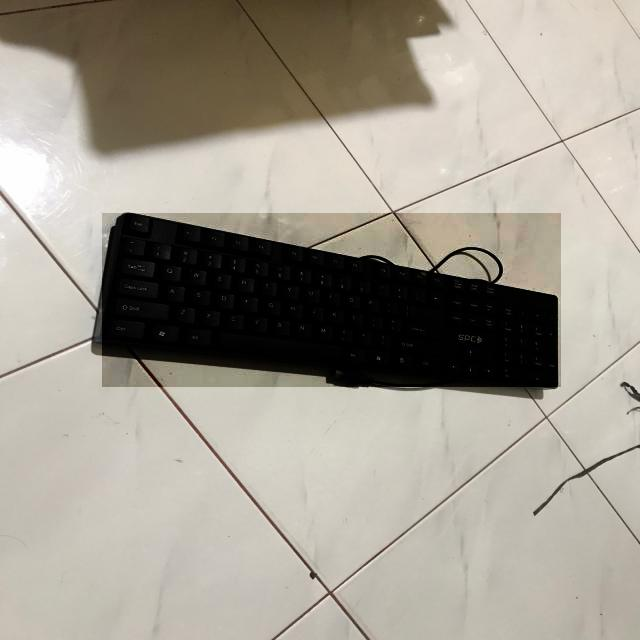-mouse-: (102, 213, 561, 387)
